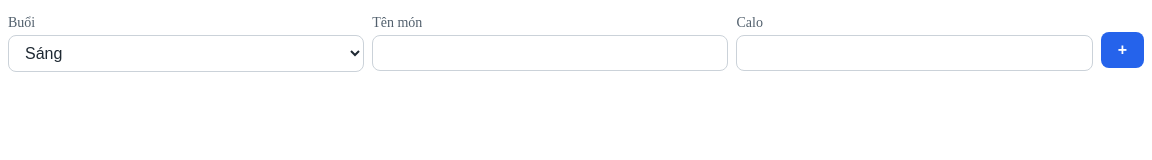
Test: MealQuickAddForm — lỗi 400 từ server gắn đúng ô theo path (bẫy B2 #4) › server trả 400 fields calories → lỗi hiện dưới ô Calo
Type "Phở" into the field labelled "Tên món".
click(550, 53); type("Phở")  # box [372,35,728,71]
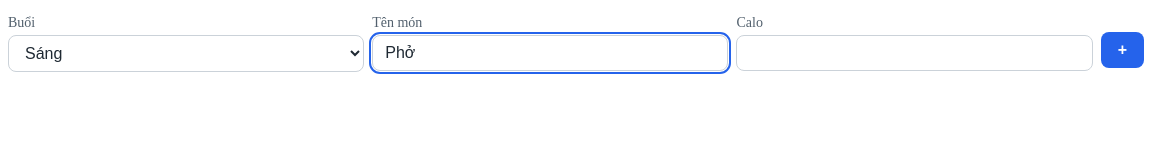
Type "450" into the number field labelled "Calo".
click(914, 53); type("450")  # box [736,35,1093,71]
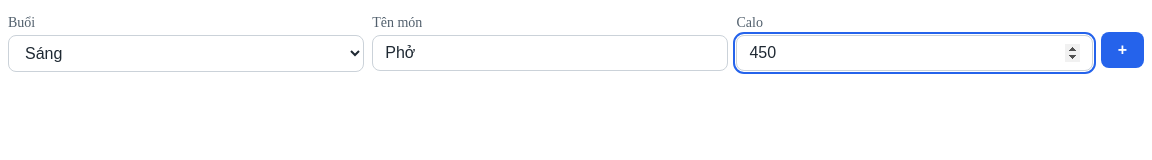
Click the button "+".
click(1122, 50)  # box [1101,32,1144,68]
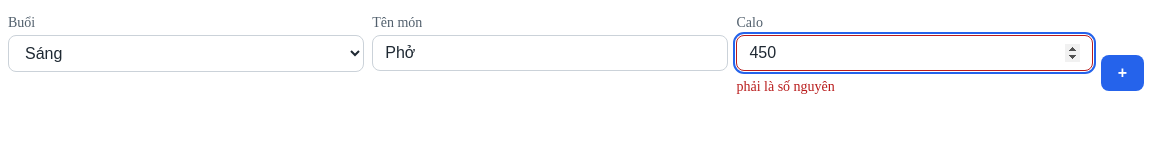
Check: the text "phải là số nguyên" is shown, box [736,79,835,94]
